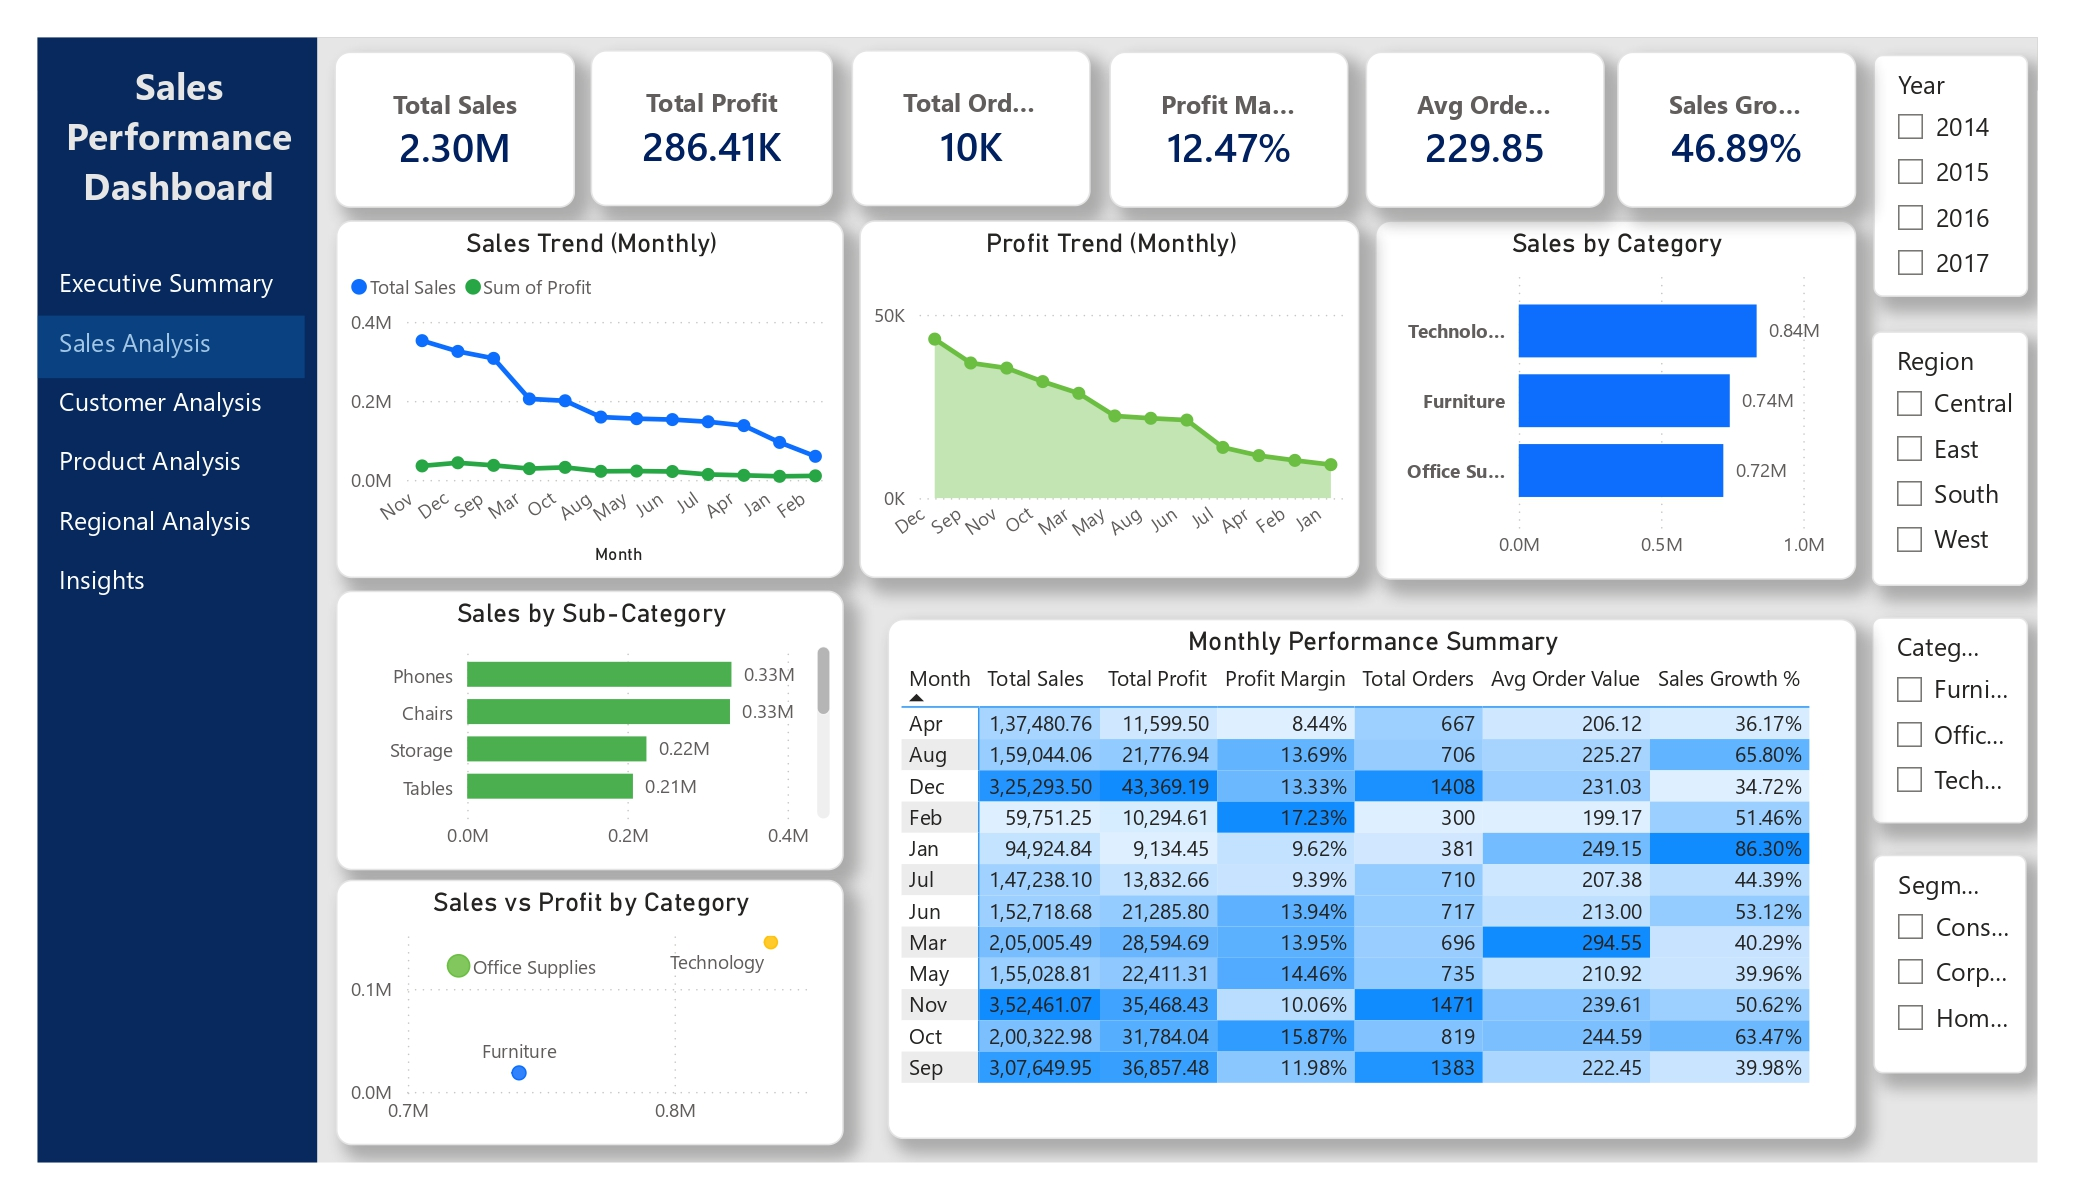

The page's visual inventory and layout, read from the dashboard file:
{"tool":"powerbi","page":{"name":"Page 2","canvas":[1280,720],"ordinal":1},"visuals":[{"type":"cardVisual","title":"Total Sales","fields":{"Data":["Store Data.Total Sales"]},"box":[189.8,8.8,153.8,100],"z":0},{"type":"cardVisual","fields":{"Data":["Store Data.Total Profit"]},"box":[354,8.3,155,100],"z":1000},{"type":"cardVisual","fields":{"Data":["Store Data.Total Orders"]},"box":[521.5,8.3,152.5,100],"z":2000},{"type":"cardVisual","fields":{"Data":["Store Data.Profit Margin"]},"box":[686.2,8.8,152.5,100],"z":3000},{"type":"clusteredBarChart","title":"Sales by Category ","fields":{"Category":["Store Data.Category"],"Y":["Store Data.Total Sales"]},"box":[856.2,117.2,307.5,230],"z":4000},{"type":"lineChart","title":"Sales Trend (Monthly)","fields":{"Y":["Store Data.Total Sales","Sum(Store Data.Profit)"],"Category":["DateTable.Month"]},"box":[190.9,117.2,325,228.8],"z":5000},{"type":"areaChart","title":"Profit Trend (Monthly)","fields":{"Category":["DateTable.Month"],"Y":["Sum(Store Data.Profit)"]},"box":[526.2,117.2,320,228.8],"z":6000},{"type":"slicer","fields":{"Values":["DateTable.Year"]},"box":[1175,11,98.8,155],"z":7000},{"type":"slicer","fields":{"Values":["Store Data.Region"]},"box":[1173.8,188.5,100,162.5],"z":8000},{"type":"slicer","fields":{"Values":["Store Data.Category"]},"box":[1173.8,371,100,132.5],"z":9000},{"type":"shape","box":[0,0,178.8,720],"z":10000},{"type":"textbox","box":[8.8,141.2,162.5,237.5],"z":11000},{"type":"cardVisual","fields":{"Data":["Store Data.Avg Order Value"]},"box":[850,8.8,152.5,100],"z":12000},{"type":"cardVisual","fields":{"Data":["Store Data.Sales Growth %"]},"box":[1011.2,8.8,152.5,100],"z":13000},{"type":"clusteredBarChart","title":"Sales by Sub-Category","fields":{"Category":["Store Data.Sub-Category"],"Y":["Store Data.Total Sales"]},"box":[191.2,353.8,325,178.8],"z":14000},{"type":"scatterChart","title":"Sales vs Profit by Category","fields":{"Category":["Store Data.Category"],"X":["Store Data.Total Sales"],"Y":["Store Data.Total Profit"],"Size":["CountNonNull(Store Data.Category)"]},"box":[191.4,538.6,324.3,170],"z":15000},{"type":"pivotTable","title":"Monthly Performance Summary","fields":{"Values":["Store Data.Total Sales","Store Data.Total Profit","Store Data.Profit Margin","Store Data.Total Orders","Store Data.Avg Order Value","Store Data.Sales Growth %"],"Rows":["DateTable.Month"]},"box":[544.1,371.6,620.1,333],"z":16000},{"type":"shape","box":[0,177.5,171.2,40],"z":17000},{"type":"slicer","fields":{"Values":["Store Data.Segment"]},"box":[1174.6,522.8,98.8,140],"z":18000},{"type":"textbox","box":[7.1,8.6,167.1,110],"z":19000},{"type":"shape","box":[0,216,171.3,39.8],"z":20000},{"type":"shape","box":[0,137.5,171.3,39.8],"z":21000},{"type":"shape","box":[0,255.8,171.3,39.8],"z":22000},{"type":"shape","box":[0,295.6,171.3,39.8],"z":23000},{"type":"shape","box":[0,335.4,171.3,39.8],"z":24000}]}

Visuals, with their boxes on the page's 1280x720 design canvas (x1, y1, x2, y2). These are canvas units, not pixel positions in the 2075x1200 screenshot, which may show the page scaled, cropped or inside an application window:
"Total Sales" cardVisual: rect(190, 9, 344, 109)
cardVisual - Store Data.Total Profit: rect(354, 8, 509, 108)
cardVisual - Store Data.Total Orders: rect(522, 8, 674, 108)
cardVisual - Store Data.Profit Margin: rect(686, 9, 839, 109)
"Sales by Category " clusteredBarChart: rect(856, 117, 1164, 347)
"Sales Trend (Monthly)" lineChart: rect(191, 117, 516, 346)
"Profit Trend (Monthly)" areaChart: rect(526, 117, 846, 346)
slicer - DateTable.Year: rect(1175, 11, 1274, 166)
slicer - Store Data.Region: rect(1174, 188, 1274, 351)
slicer - Store Data.Category: rect(1174, 371, 1274, 504)
shape: rect(0, 0, 179, 720)
textbox: rect(9, 141, 171, 379)
cardVisual - Store Data.Avg Order Value: rect(850, 9, 1002, 109)
cardVisual - Store Data.Sales Growth %: rect(1011, 9, 1164, 109)
"Sales by Sub-Category" clusteredBarChart: rect(191, 354, 516, 533)
"Sales vs Profit by Category" scatterChart: rect(191, 539, 516, 709)
"Monthly Performance Summary" pivotTable: rect(544, 372, 1164, 705)
shape: rect(0, 178, 171, 218)
slicer - Store Data.Segment: rect(1175, 523, 1273, 663)
textbox: rect(7, 9, 174, 119)
shape: rect(0, 216, 171, 256)
shape: rect(0, 138, 171, 177)
shape: rect(0, 256, 171, 296)
shape: rect(0, 296, 171, 335)
shape: rect(0, 335, 171, 375)
